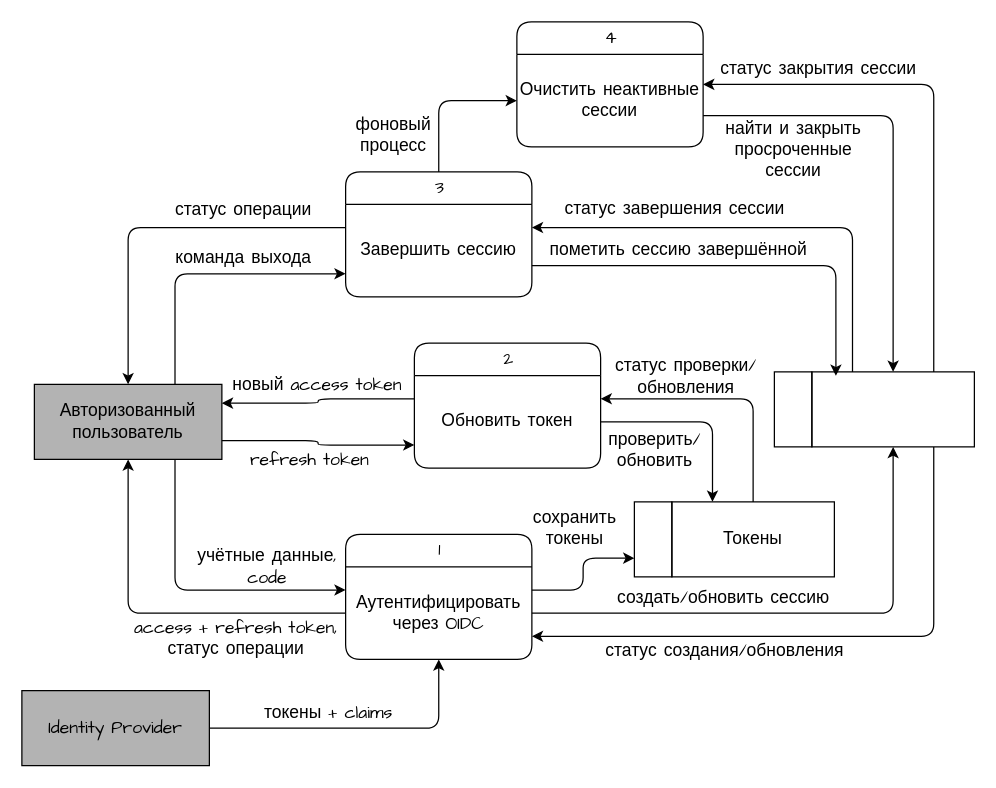
The diagram is 996 pixels wide and 788 high, and some of its shapes have lost their labels. The shapes that lost their labels are listed below. From the top down, each one's centre as x and y in pixels, then its label:
At point 792,409: "D1".
At point 892,409: "Учетные данные/сессии".
At point 652,539: "D2".
